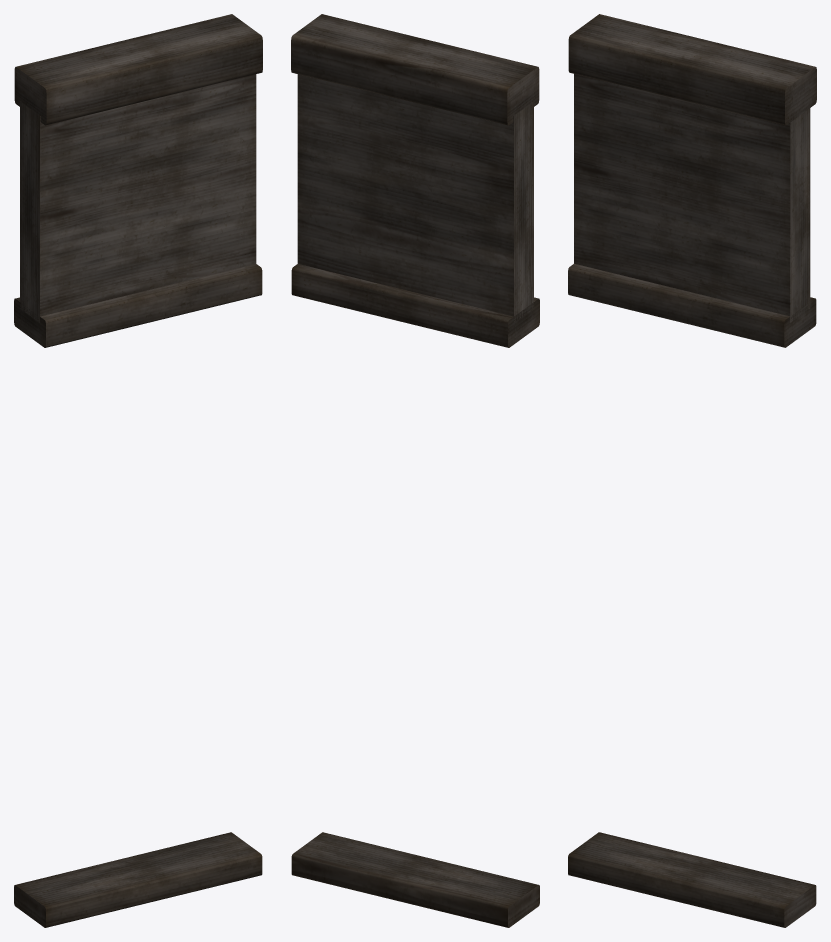
Rendered from ShrineModule_Wall-04.fbx.
The picture shows the model from 3 angles, left to right: view 1: azimuth 30°, elevation 25°; view 2: azimuth 150°, elevation 25°; view 3: azimuth 330°, elevation 25°; orthographic projection.
Visible parts, largest first — view 1: ShrineModule_Wall-04; view 2: ShrineModule_Wall-04; view 3: ShrineModule_Wall-04.
Boxes of the visible parts, x1=… form: ShrineModule_Wall-04: x1=14, y1=14, x2=262, y2=927; ShrineModule_Wall-04: x1=291, y1=14, x2=539, y2=927; ShrineModule_Wall-04: x1=568, y1=14, x2=816, y2=927.
Bounding box in the file's own units: 1.5 × 5.56 × 0.383.
